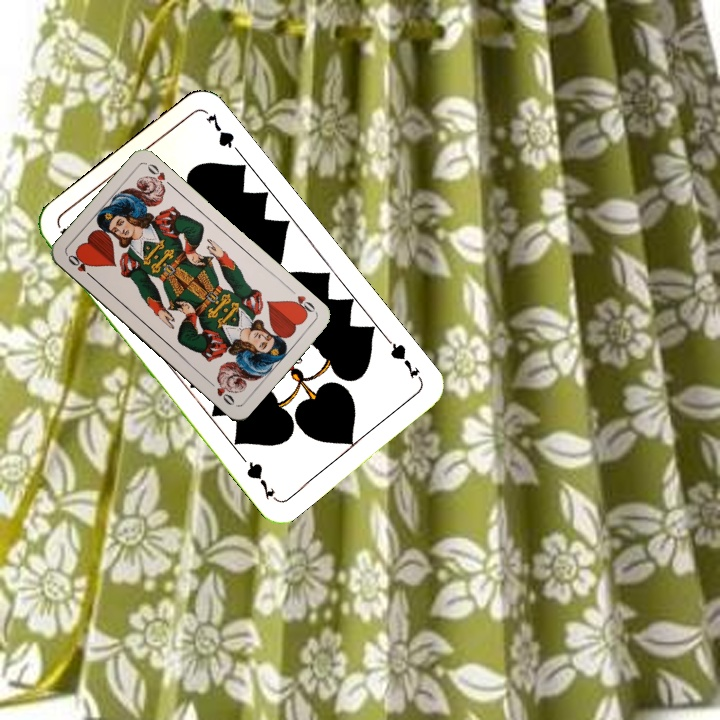G7: (383, 335, 425, 385)
HO: (285, 284, 319, 318), (64, 250, 97, 282)
